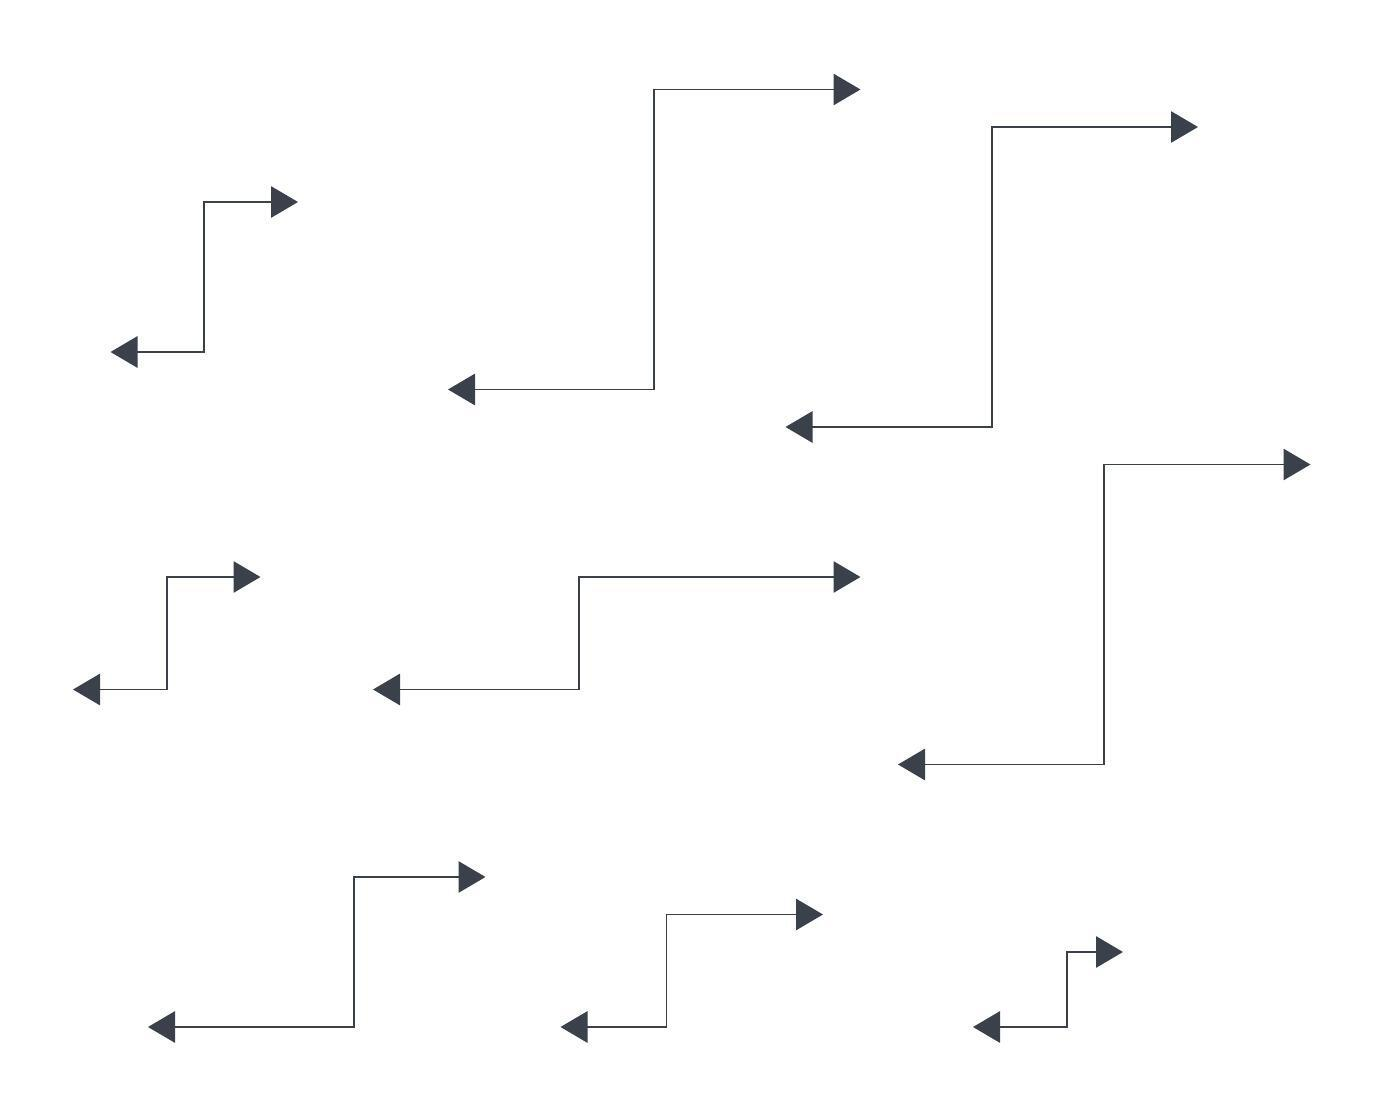bi_horizontal: (888, 442, 1319, 798), (440, 69, 863, 413), (366, 551, 868, 708), (145, 848, 491, 1057), (555, 886, 843, 1055), (108, 180, 302, 366), (65, 556, 263, 709), (967, 928, 1123, 1052)
